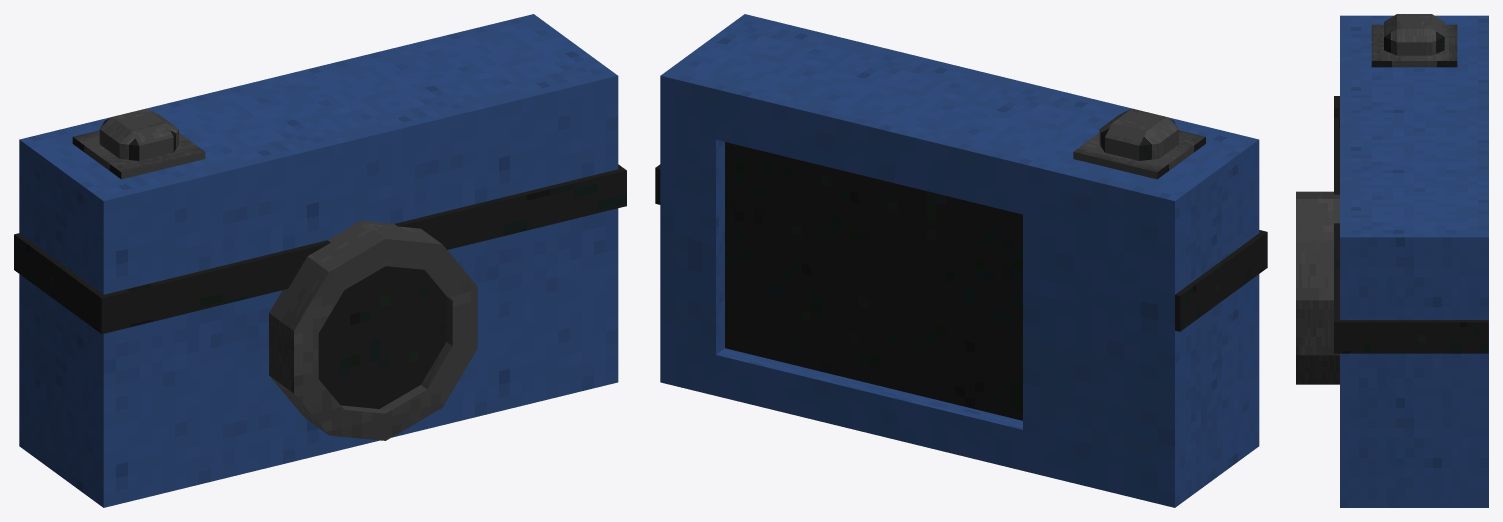
Rendered from camera.glb.
3 views of the same model, side by side, from view 1: azimuth 30°, elevation 25°; view 2: azimuth 150°, elevation 25°; view 3: azimuth 270°, elevation 25° (orthographic). The views are drawn at different scales.
Visible parts, largest first — view 1: Cube; view 2: Cube; view 3: Cube.
Boxes of the visible parts, left/top/right/bottom form: Cube: left=14, top=14, right=626, bottom=507; Cube: left=655, top=14, right=1267, bottom=507; Cube: left=1296, top=14, right=1488, bottom=507.
Bounding box in the file's own units: 1.31 × 0.8072 × 0.4723.
Materials: 1 (1 with a texture image).
